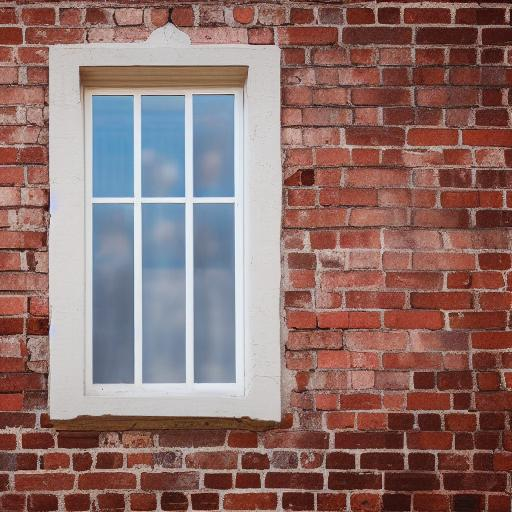Window: (48, 46, 284, 425)
